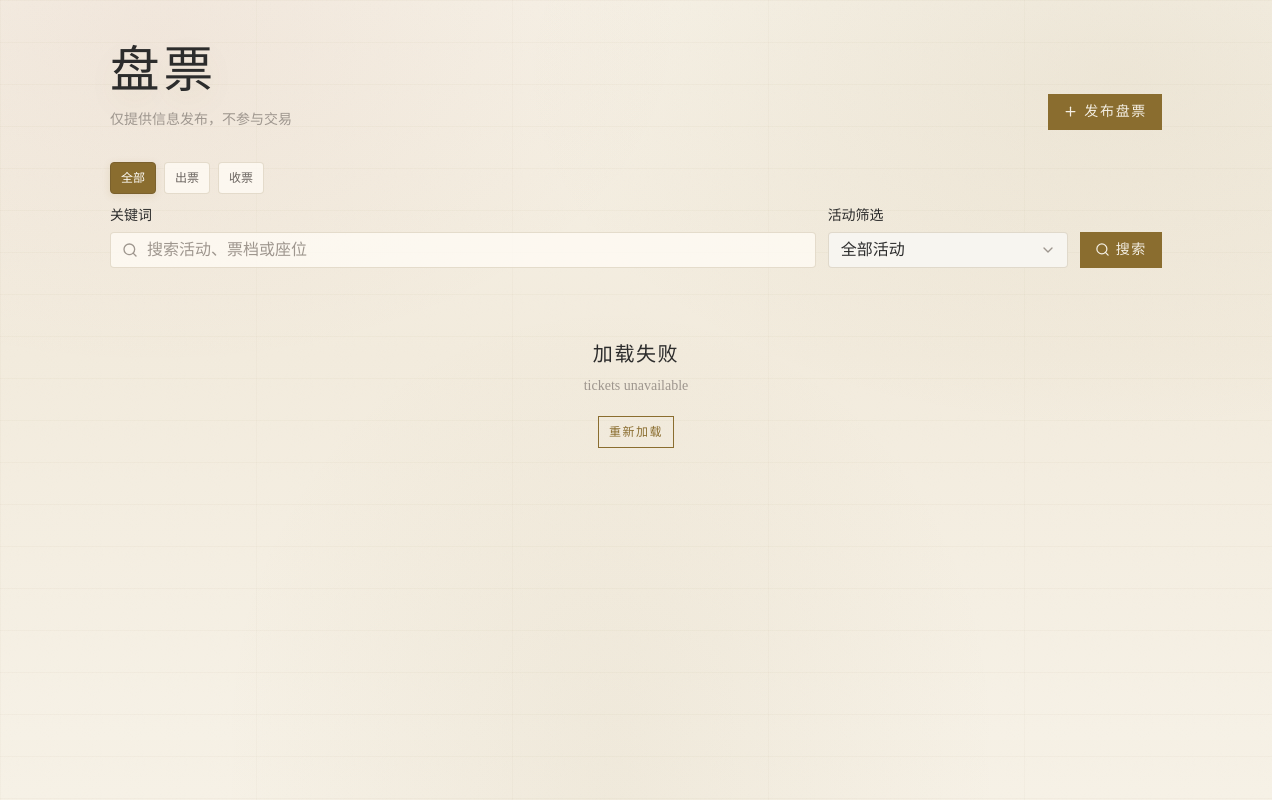
Test: 盘票列表加载状态 › 请求失败显示可重试错误，重试后加载列表
The width and height of the screenshot is (1280, 800).
Check: the message shows "加载失败", box [593, 343, 679, 365]
Click the button "重新加载" at (636, 432), box [598, 416, 674, 448]
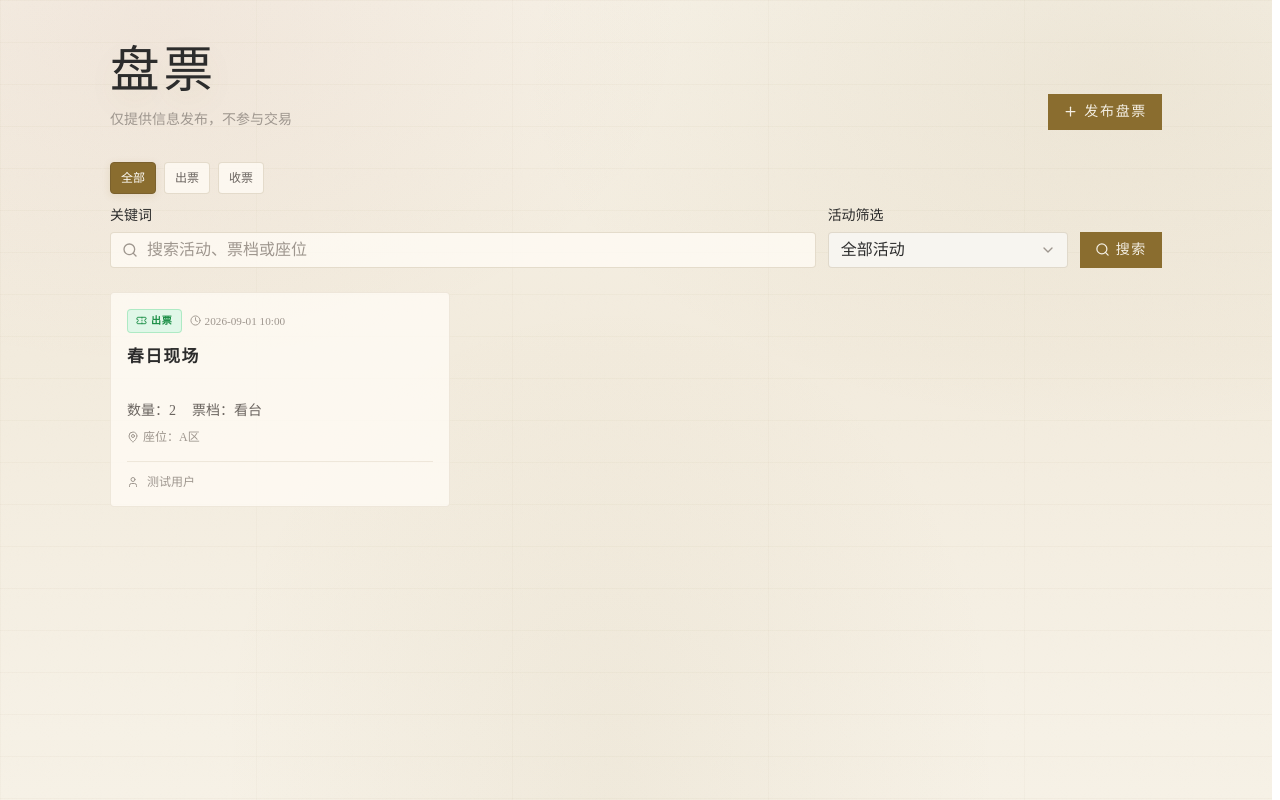
Check: the heading "春日现场" is shown, box [127, 347, 200, 366]
